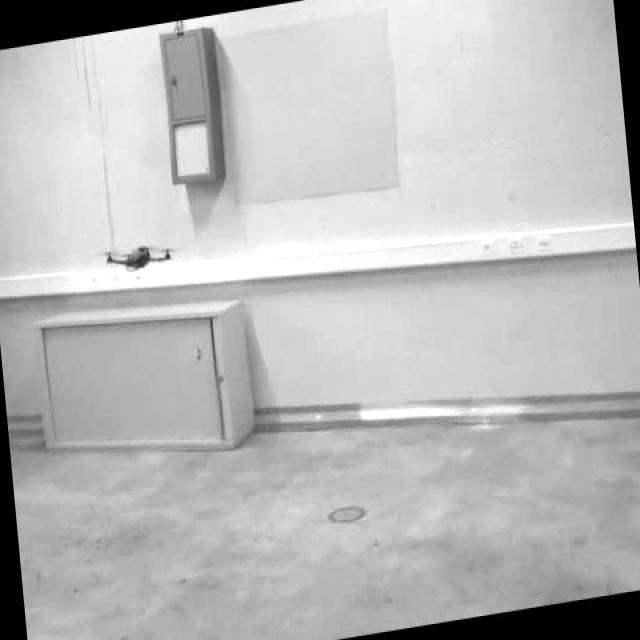drone: (96, 229, 181, 299)
